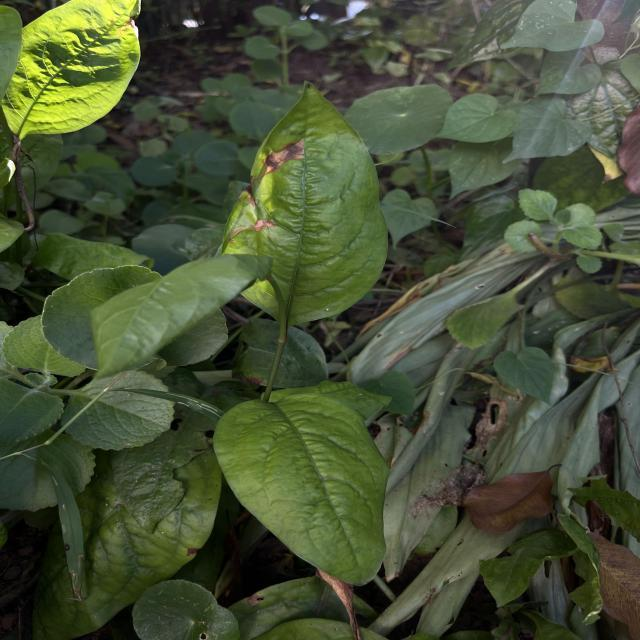Plumbago indica: (218, 76, 398, 338), (206, 384, 390, 586)
